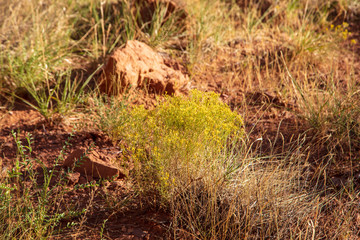snakeweed: (112, 94, 252, 193)
